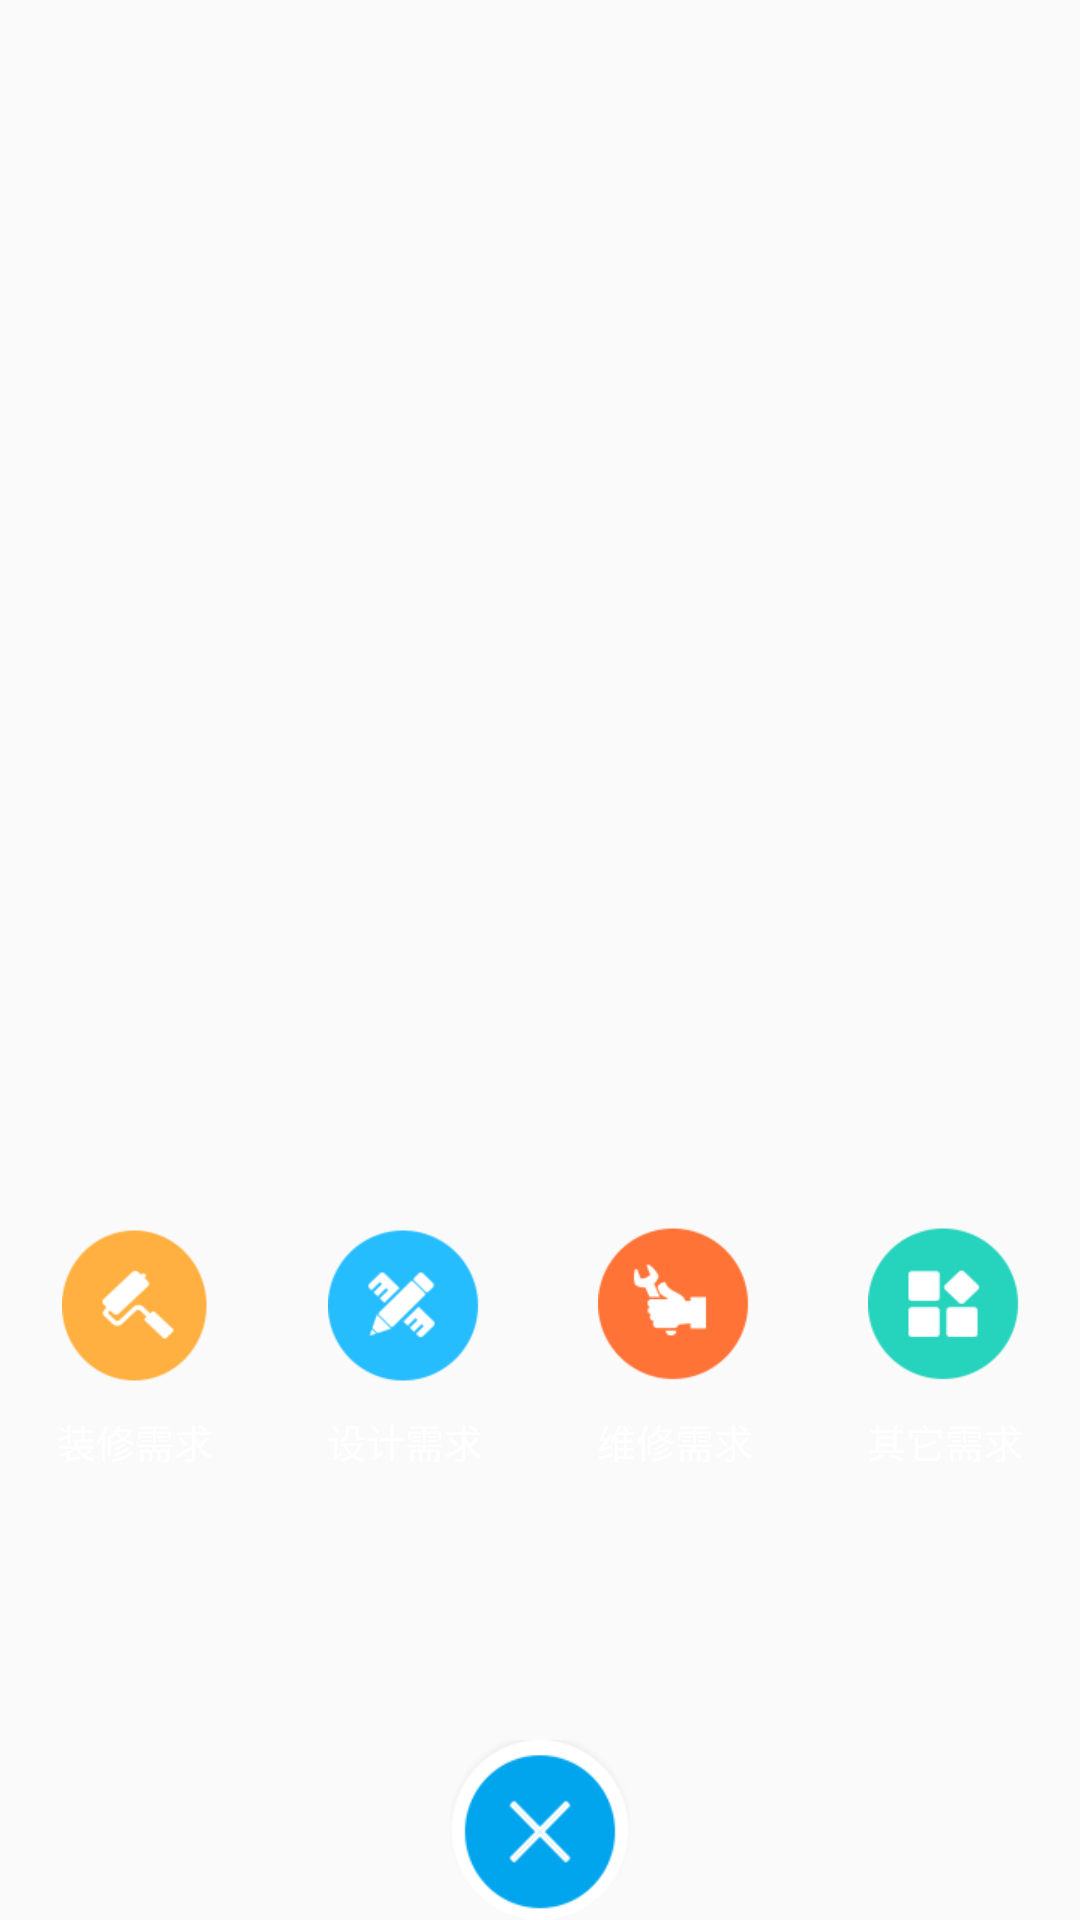

Screen size 1080 x 1920. Icon name, then its center in pixels as (x=x, y=y):
home pop close: (x=540, y=1832)
